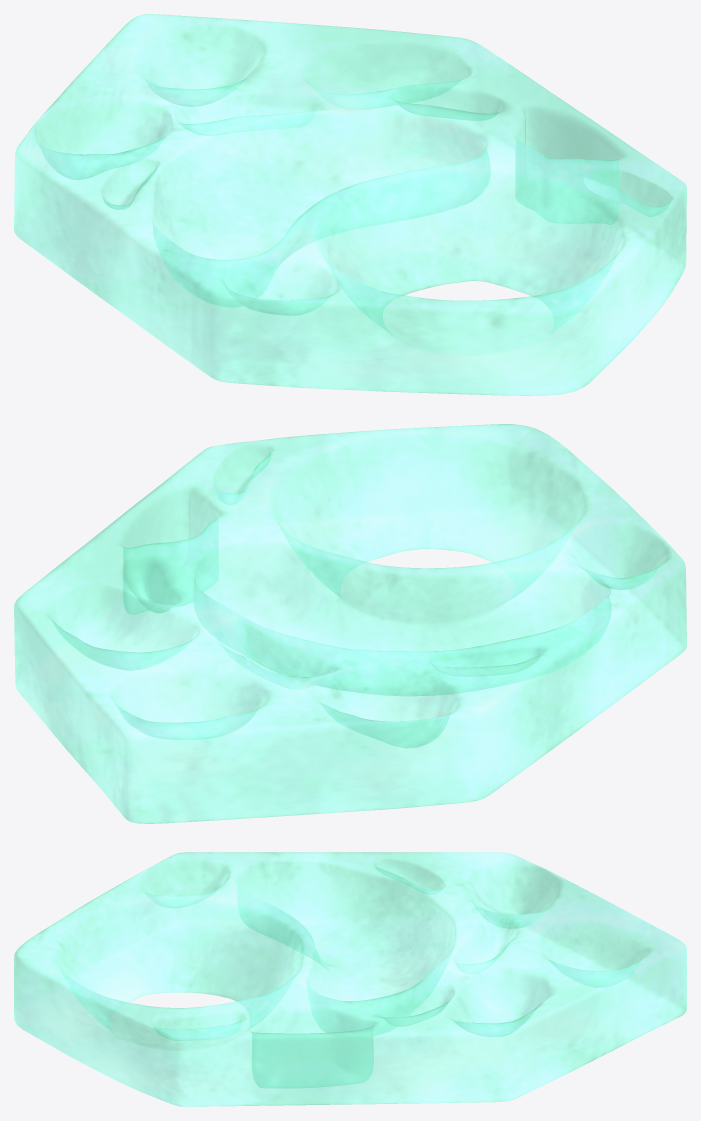
Rendered from citosol e citoscheletro.glb.
The picture shows the model from 3 angles, top to bottom: view 1: azimuth 30°, elevation 25°; view 2: azimuth 150°, elevation 25°; view 3: azimuth 270°, elevation 25°; orthographic projection. The views are drawn at different scales.
Visible parts, largest first — view 1: Object_11; view 2: Object_11; view 3: Object_11.
Boxes of the visible parts, x1,y1,x2,y2 form: Object_11: [14, 14, 686, 395]; Object_11: [14, 424, 686, 823]; Object_11: [14, 852, 686, 1106].
Size of the model in its own units: 4.74 by 0.8307 by 7.13.
Materials: 1 (1 with a texture image).
